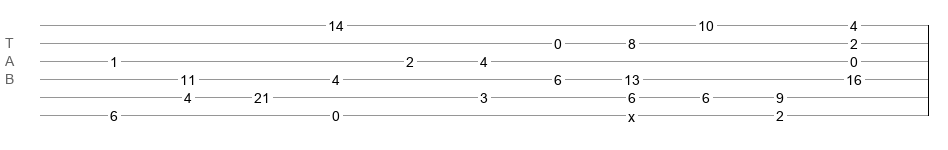0: (332, 108, 340, 118), (554, 36, 562, 46), (850, 54, 858, 64)
1: (110, 54, 118, 64)
10: (698, 18, 714, 28)
11: (180, 72, 196, 82)
13: (624, 72, 640, 82)
14: (328, 18, 344, 28)
16: (846, 72, 862, 82)
2: (406, 54, 414, 64), (776, 108, 784, 118), (850, 36, 858, 46)
21: (254, 90, 270, 100)
3: (480, 90, 488, 100)
4: (184, 90, 192, 100), (332, 72, 340, 82), (480, 54, 488, 64), (850, 18, 858, 28)
6: (110, 108, 118, 118), (554, 72, 562, 82), (628, 90, 636, 100), (702, 90, 710, 100)
8: (628, 36, 636, 46)
9: (776, 90, 784, 100)
x: (628, 109, 635, 117)
